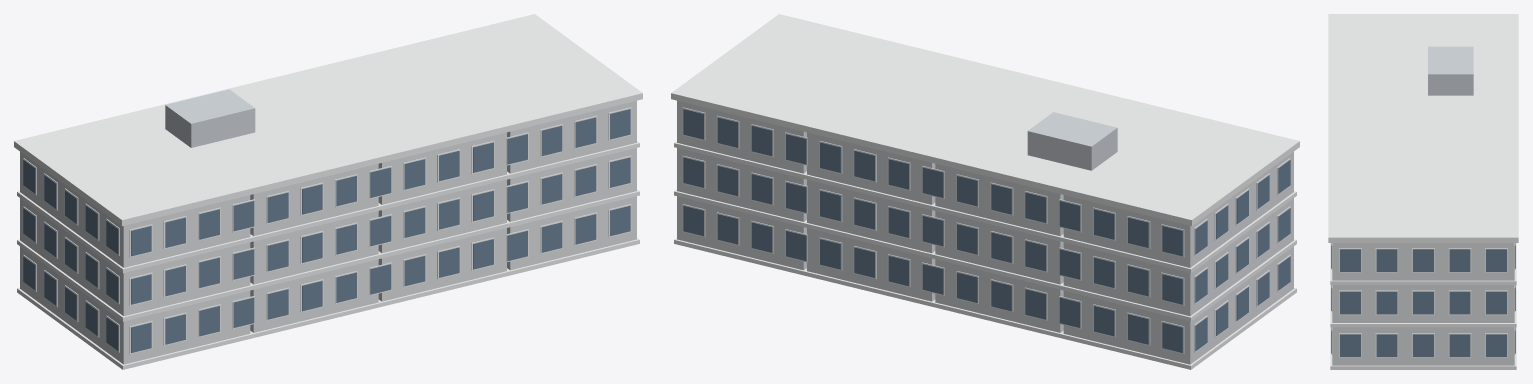
The model's file is harbor_point_hotel.glb.
3 views of the same model, side by side, from view 1: azimuth 30°, elevation 25°; view 2: azimuth 150°, elevation 25°; view 3: azimuth 270°, elevation 25° (orthographic). The views are drawn at different scales.
Visible parts, largest first — view 1: Slabs, Windows, Window_Frames, room_101, room_201, room_301, Roof_Plant, room_102, room_202, room_203, room_103, room_303 (+4 smaller); view 2: Slabs, Windows, Window_Frames, room_101, room_201, room_301, Roof_Plant, room_102, room_202, room_203, room_103, room_303 (+4 smaller); view 3: Slabs, Windows, room_104, room_204, room_304, Window_Frames, Roof_Plant.
Boxes of the visible parts, bbox=[...] form: Slabs: bbox=[14, 14, 642, 369]; Windows: bbox=[23, 109, 630, 352]; Window_Frames: bbox=[23, 107, 631, 354]; room_101: bbox=[20, 246, 250, 364]; room_201: bbox=[20, 198, 250, 316]; room_301: bbox=[20, 152, 250, 267]; Roof_Plant: bbox=[165, 89, 255, 147]; room_102: bbox=[250, 259, 378, 332]; room_202: bbox=[250, 211, 378, 284]; room_203: bbox=[378, 179, 506, 253]; room_103: bbox=[378, 228, 506, 301]; room_303: bbox=[378, 132, 506, 204]; Slabs: bbox=[671, 14, 1299, 369]; Windows: bbox=[683, 109, 1290, 352]; Window_Frames: bbox=[682, 107, 1290, 354]; room_101: bbox=[1063, 246, 1293, 364]; room_201: bbox=[1063, 198, 1293, 316]; room_301: bbox=[1063, 152, 1293, 267]; Roof_Plant: bbox=[1027, 112, 1117, 170]; room_102: bbox=[935, 259, 1063, 332]; room_202: bbox=[935, 211, 1063, 284]; room_203: bbox=[807, 179, 935, 253]; room_103: bbox=[807, 228, 935, 301]; room_303: bbox=[807, 132, 935, 204]; Slabs: bbox=[1328, 14, 1518, 369]; Windows: bbox=[1331, 243, 1515, 356]; room_104: bbox=[1332, 327, 1514, 365]; room_204: bbox=[1332, 285, 1514, 322]; room_304: bbox=[1332, 243, 1514, 280]; Window_Frames: bbox=[1331, 243, 1515, 357]; Roof_Plant: bbox=[1428, 46, 1473, 95].
Bounding box in the file's own units: 4.06 × 1.3 × 1.46.
